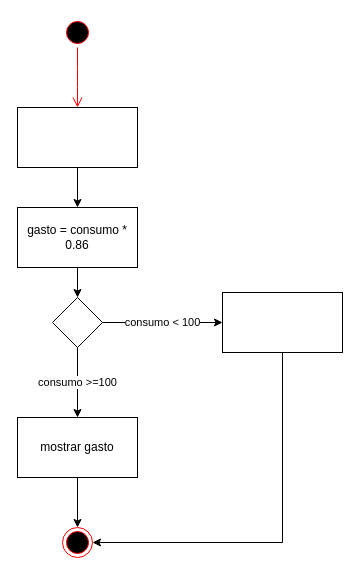
The diagram is 360 pixels wide and 583 high, and some of its shapes have lost their labels. The shapes that lost their labels are listed below. From the top down, each one's centre as x and y in pixels, then its label:
At (x=77, y=137): "recebe consumo(kWh)".
At (x=282, y=322): "gasto - ((10/100) * gasto)".
